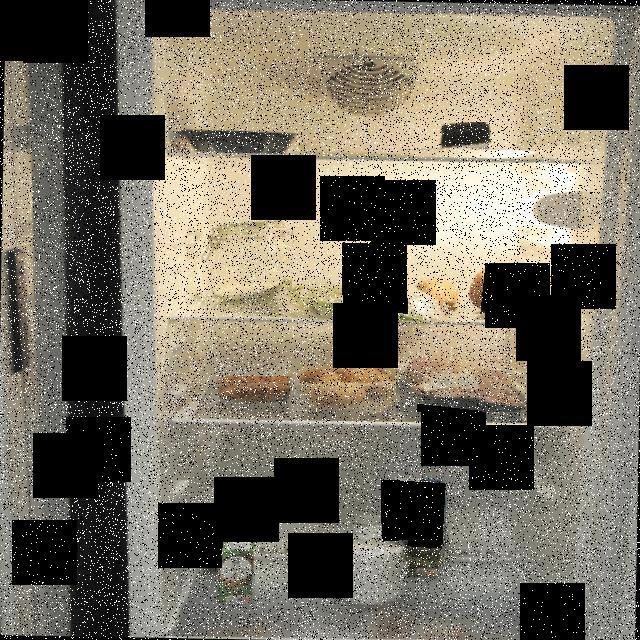Cheese: (436, 122, 492, 153)
Chicken: (396, 348, 534, 412)
Corn ear: (202, 532, 248, 576)
Cream: (217, 534, 256, 604)
Flour: (201, 218, 294, 314)
Potato: (291, 362, 396, 414)
Sugar: (330, 515, 408, 610)
Sweet Potato: (464, 270, 547, 316), (410, 278, 459, 307)
